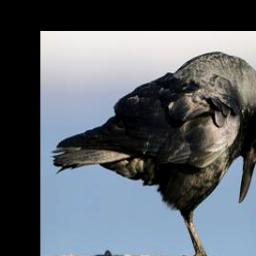Crow: (51, 50, 256, 256)
